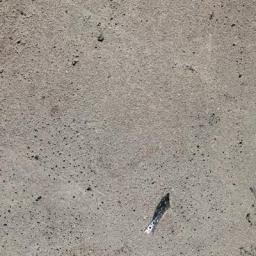FOD: (142, 193, 176, 238)
